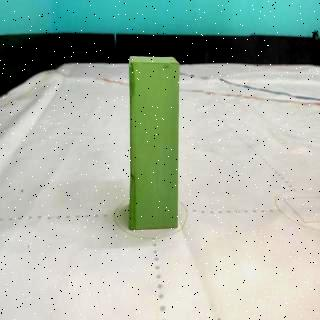greenbox: (127, 54, 181, 230)
